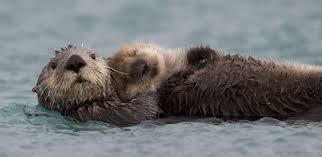otter: (107, 29, 322, 131), (30, 19, 112, 128)
